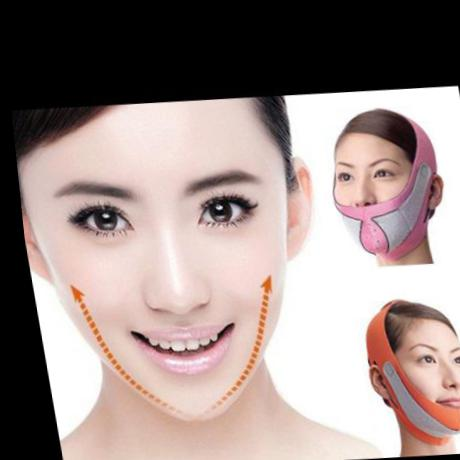NONE: (30, 156, 310, 415), (385, 330, 460, 425)
WRONG: (321, 148, 435, 254)
